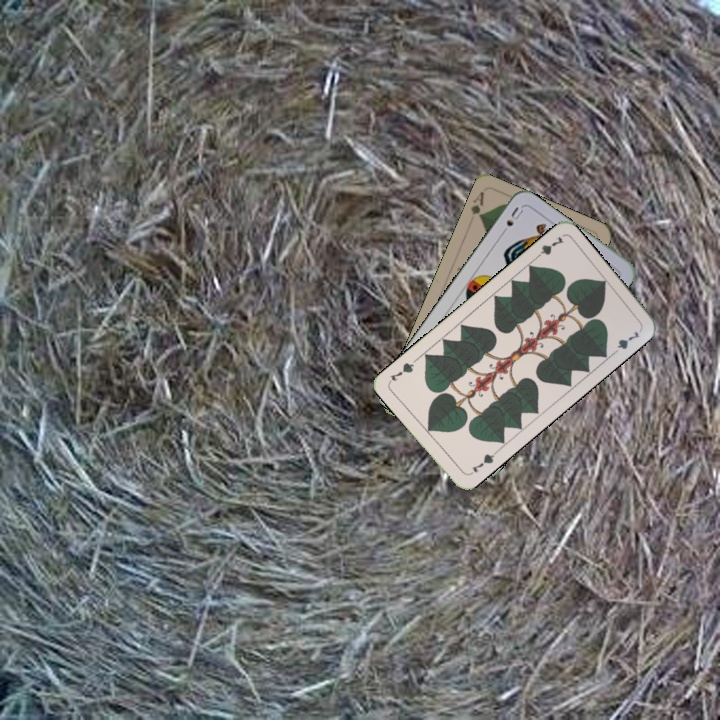G7: (530, 232, 566, 263), (465, 448, 499, 478)
GA: (466, 187, 487, 222)
SU: (496, 203, 526, 239)
